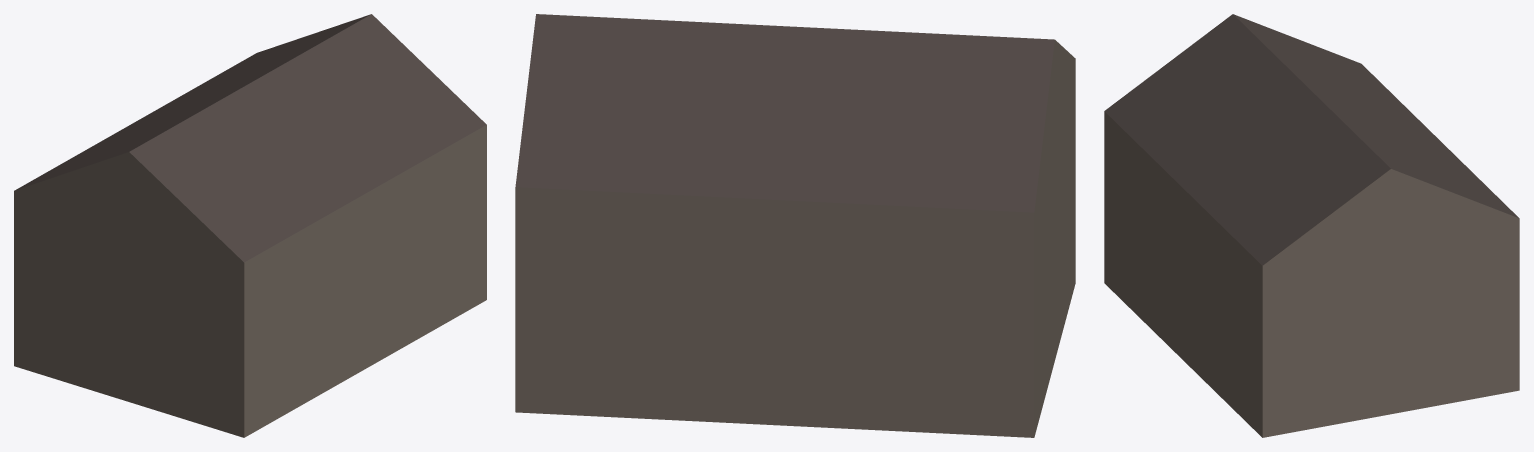
3 renders of one model, left to right at view 1: azimuth 30°, elevation 25°; view 2: azimuth 150°, elevation 25°; view 3: azimuth 270°, elevation 25°, orthographic. The views are drawn at different scales.
Visible parts, largest first — view 1: HP-w1200769509; view 2: HP-w1200769509; view 3: HP-w1200769509.
Part boxes in pixels (left/top/right/bottom): HP-w1200769509: left=14, top=14, right=486, bottom=437; HP-w1200769509: left=515, top=14, right=1075, bottom=437; HP-w1200769509: left=1104, top=14, right=1519, bottom=437.
Bounding box in the file's own units: 15.12 × 8.56 × 13.13.
